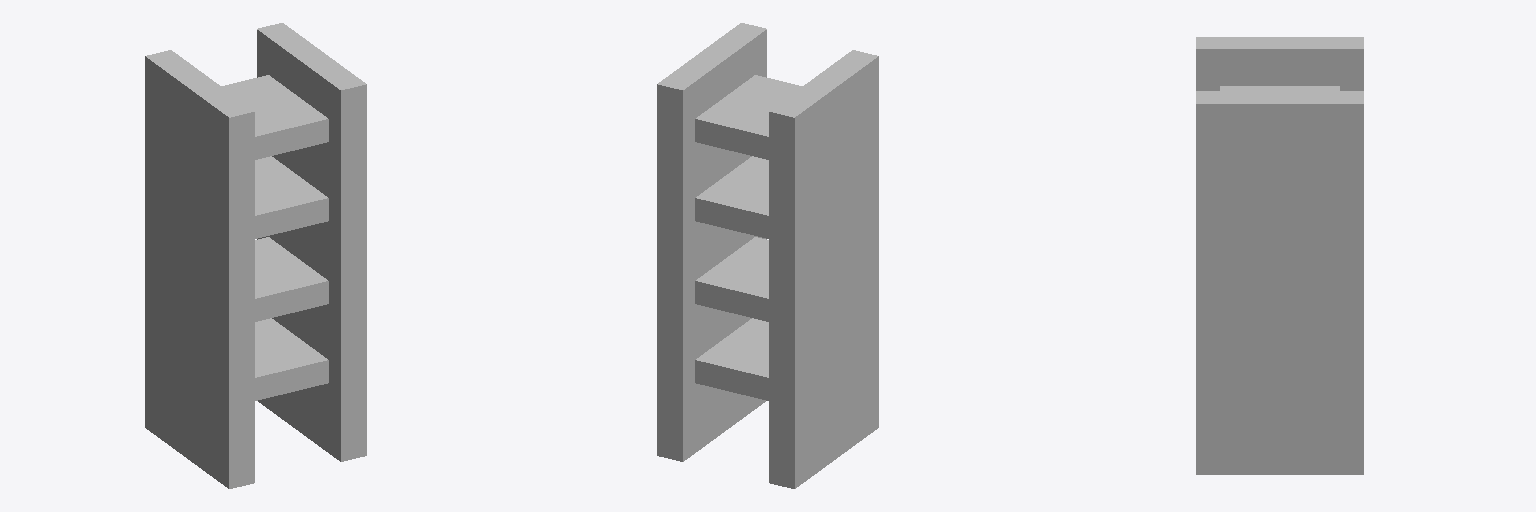
File: Ladder 4 subdivisions.obj
3 renders of one model, left to right at view 1: azimuth 30°, elevation 25°; view 2: azimuth 150°, elevation 25°; view 3: azimuth 270°, elevation 25°, orthographic.
Parts seen in each view (by area): view 1: pCube106; view 2: pCube106; view 3: pCube106.
Boxes of the visible parts, x1=… form: pCube106: x1=145, y1=23, x2=366, y2=488; pCube106: x1=657, y1=23, x2=878, y2=488; pCube106: x1=1196, y1=37, x2=1363, y2=474.
Bounding box in the file's own units: 0.9425 × 2.43 × 1.